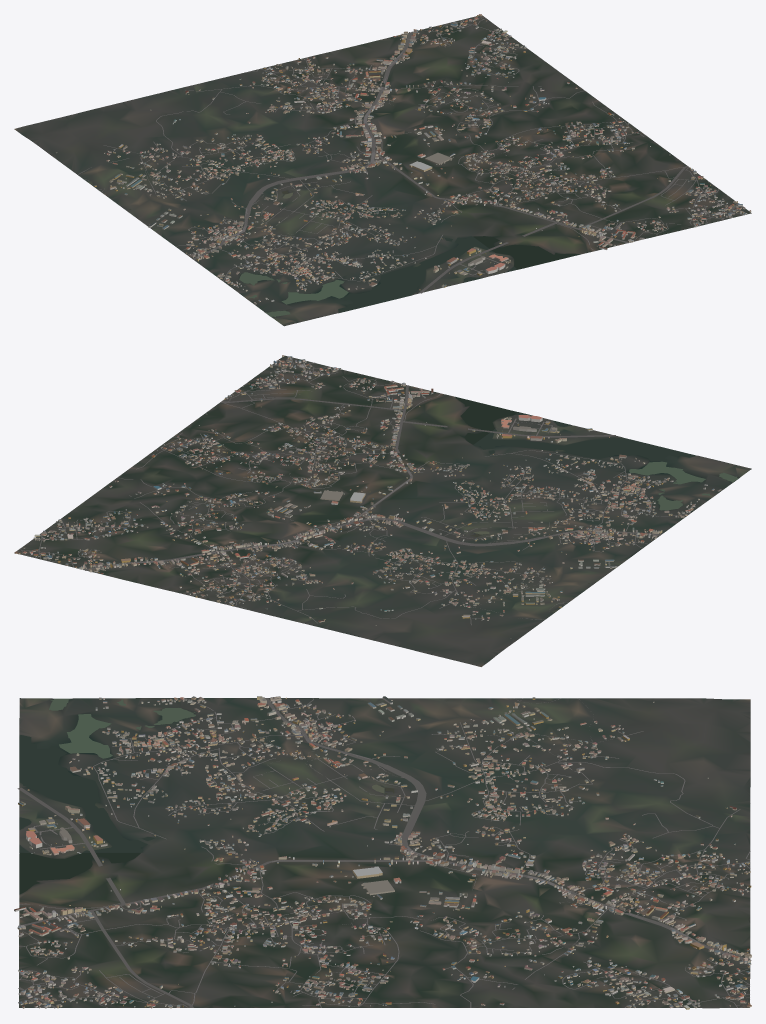
The picture shows the model from 3 angles, top to bottom: view 1: azimuth 30°, elevation 25°; view 2: azimuth 150°, elevation 25°; view 3: azimuth 270°, elevation 25°; orthographic projection. The views are drawn at different scales.
Parts seen in each view (by area): view 1: ground, buildings, roads, water; view 2: ground, buildings, roads, water; view 3: ground, buildings, roads, water.
Part boxes in pixels (x1=…): ground: x1=14, y1=15, x2=751, y2=326; buildings: x1=55, y1=14, x2=751, y2=304; roads: x1=78, y1=17, x2=742, y2=293; water: x1=129, y1=190, x2=580, y2=317; ground: x1=14, y1=355, x2=751, y2=666; buildings: x1=14, y1=355, x2=721, y2=638; roads: x1=17, y1=357, x2=690, y2=625; water: x1=455, y1=396, x2=738, y2=583; ground: x1=19, y1=698, x2=750, y2=1008; buildings: x1=14, y1=696, x2=751, y2=1009; roads: x1=17, y1=698, x2=751, y2=1008; water: x1=19, y1=698, x2=447, y2=894.
Size of the model in its own units: 2819 by 26.43 by 2830.
